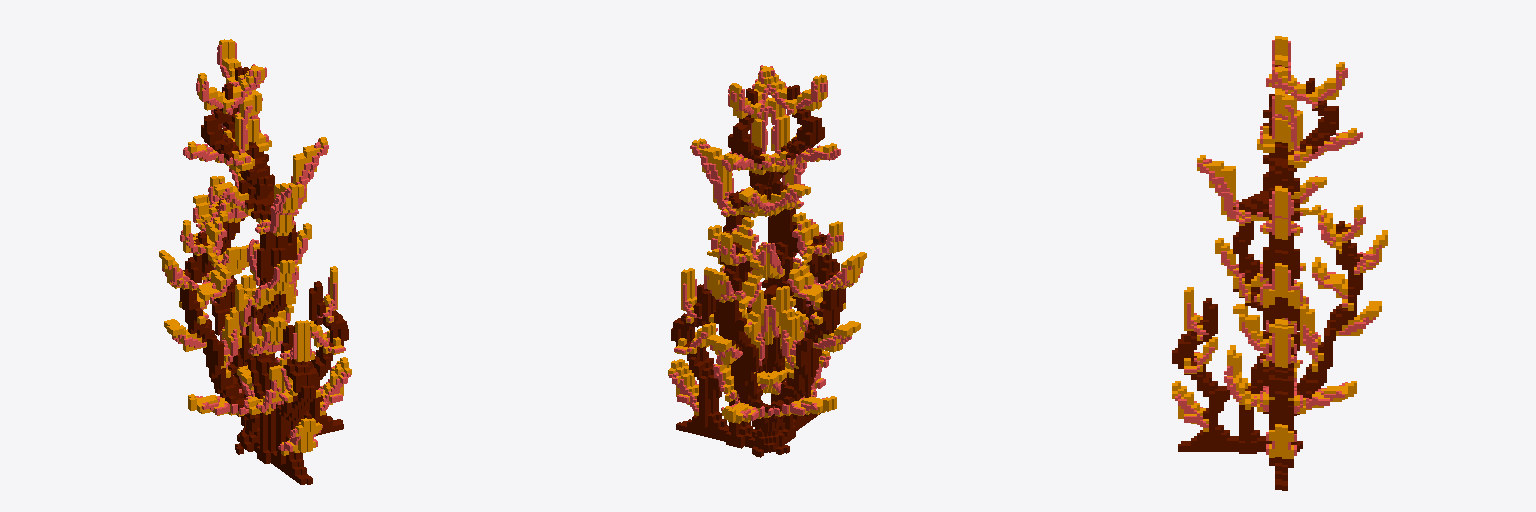
3 renders of one model, left to right at view 1: azimuth 30°, elevation 25°; view 2: azimuth 150°, elevation 25°; view 3: azimuth 270°, elevation 25°, orthographic.
Visible parts, largest first — view 1: object 1; view 2: object 1; view 3: object 1.
Boxes of the visible parts, <box> form: object 1: <box>159,39,351,484</box>; object 1: <box>668,65,866,457</box>; object 1: <box>1172,36,1387,490</box>.
Bounding box in the file's own units: 7.1 × 14 × 7.1.
1 materials, 1 textured.